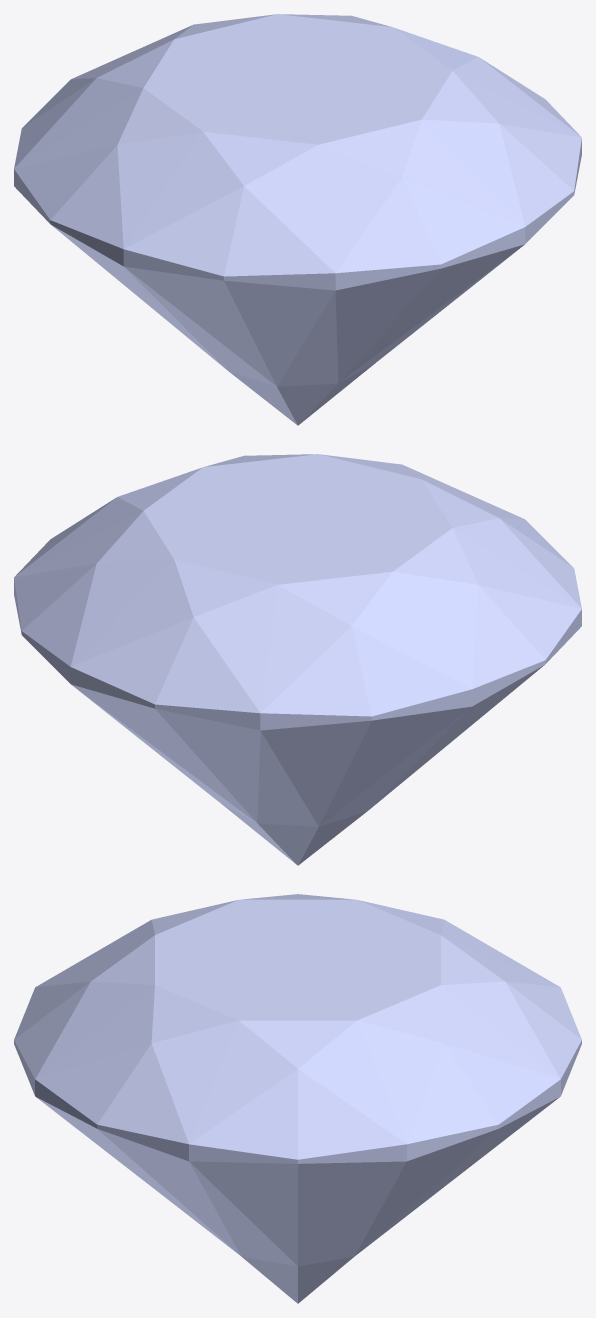
File: diamond_cut.obj
The picture shows the model from 3 angles, top to bottom: view 1: azimuth 30°, elevation 25°; view 2: azimuth 150°, elevation 25°; view 3: azimuth 270°, elevation 25°; orthographic projection.
Visible parts, largest first — view 1: Circle.002; view 2: Circle.002; view 3: Circle.002.
Boxes of the visible parts, <box> form: Circle.002: <box>14,14,581,425</box>; Circle.002: <box>14,454,581,865</box>; Circle.002: <box>14,894,581,1303</box>.
Size of the model in its own units: 1.94 by 1.3 by 1.95.
